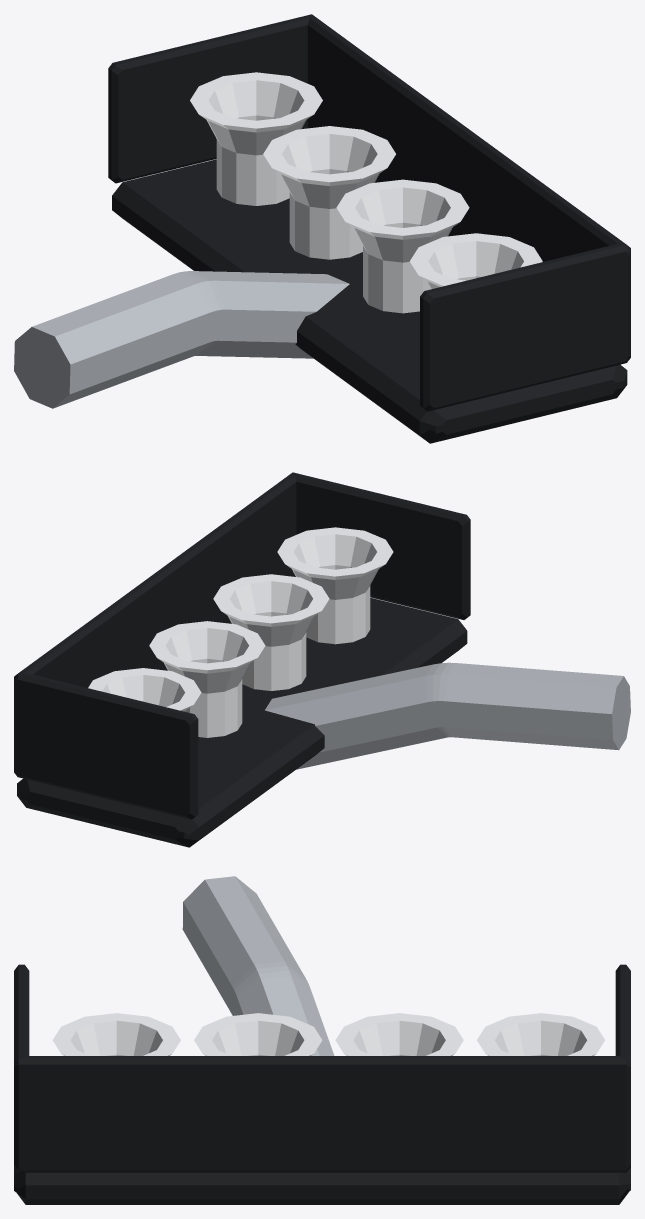
The model's file is kaze_gt.glb.
The picture shows the model from 3 angles, top to bottom: view 1: azimuth 30°, elevation 25°; view 2: azimuth 150°, elevation 25°; view 3: azimuth 270°, elevation 25°; orthographic projection. The views are drawn at different scales.
Parts seen in each view (by area): view 1: model; view 2: model; view 3: model.
Part boxes in pixels (x1,y1,x2,y2): model: (14, 14, 630, 443); model: (14, 472, 630, 847); model: (14, 876, 630, 1204).
Size of the model in its own units: 0.4281 by 0.1559 by 0.48.
Materials: 3 (1 with a texture image).
